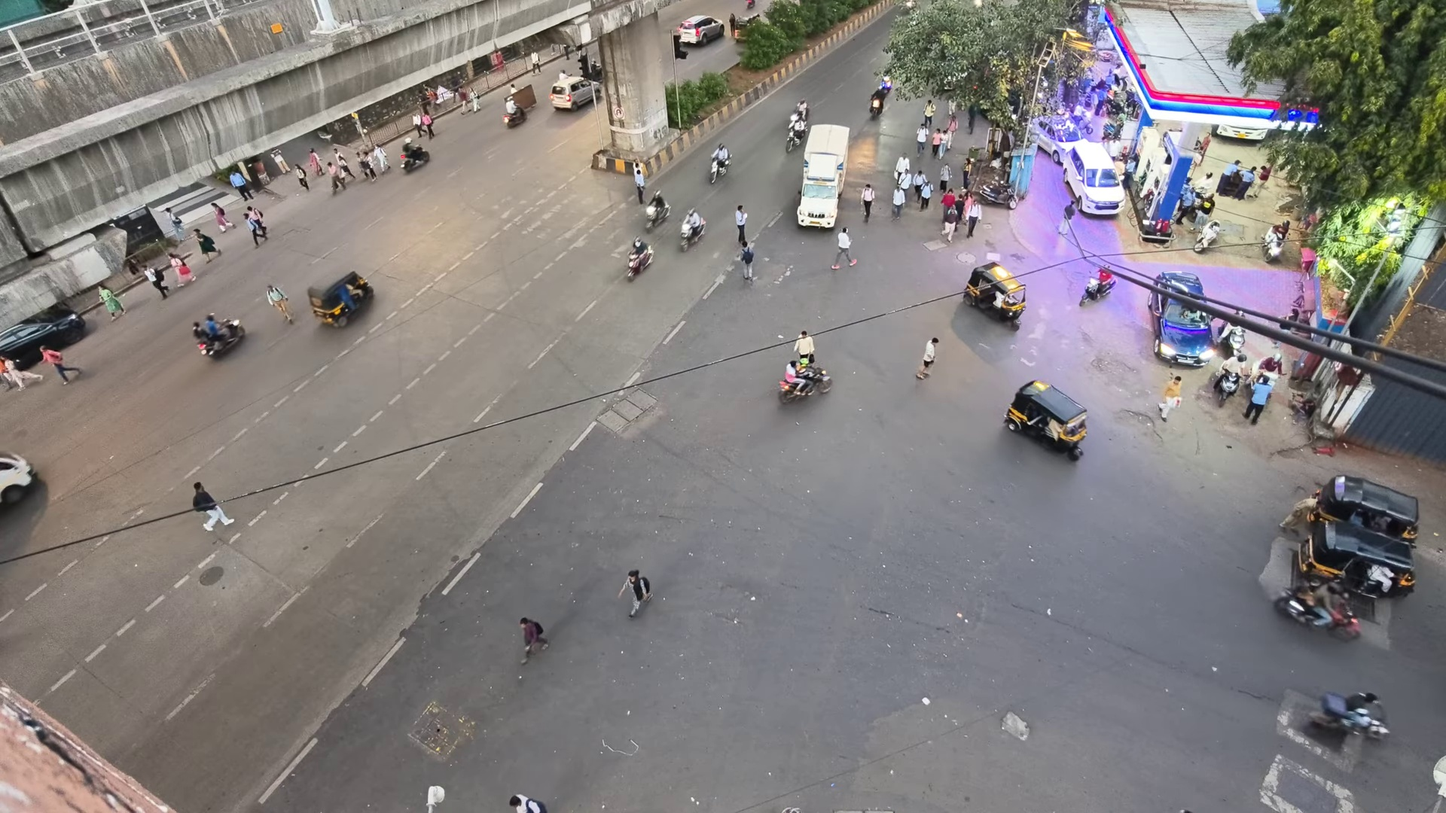driving: (1149, 291, 1216, 366)
walking: (193, 483, 234, 531), (618, 569, 650, 617), (1244, 375, 1273, 425), (41, 348, 81, 384), (520, 617, 548, 663), (1279, 497, 1317, 530), (3, 358, 42, 389), (831, 227, 856, 269), (1158, 376, 1181, 420), (193, 228, 221, 262), (267, 284, 292, 322), (98, 285, 124, 320), (916, 338, 938, 379), (1215, 159, 1240, 193), (246, 208, 268, 246), (168, 253, 192, 286), (145, 266, 168, 299), (163, 208, 185, 241), (1234, 167, 1256, 199), (793, 330, 814, 363), (508, 794, 546, 812), (211, 202, 233, 233), (245, 207, 267, 238), (230, 169, 252, 199), (942, 112, 957, 154), (356, 151, 376, 181), (966, 197, 981, 237), (335, 150, 355, 179), (941, 206, 957, 242), (1058, 203, 1075, 236), (940, 185, 956, 220), (954, 190, 972, 221), (740, 243, 754, 282), (326, 162, 344, 192), (735, 205, 748, 246), (861, 184, 874, 222), (633, 163, 645, 203), (892, 187, 906, 219), (959, 157, 973, 189), (895, 156, 911, 184), (373, 143, 388, 172), (912, 168, 926, 199), (308, 148, 322, 176), (916, 124, 928, 155), (920, 180, 932, 210), (295, 166, 309, 191), (931, 129, 943, 158), (421, 113, 434, 139), (923, 99, 935, 127), (967, 105, 978, 133), (939, 163, 951, 187), (413, 111, 423, 137), (530, 51, 539, 74)
